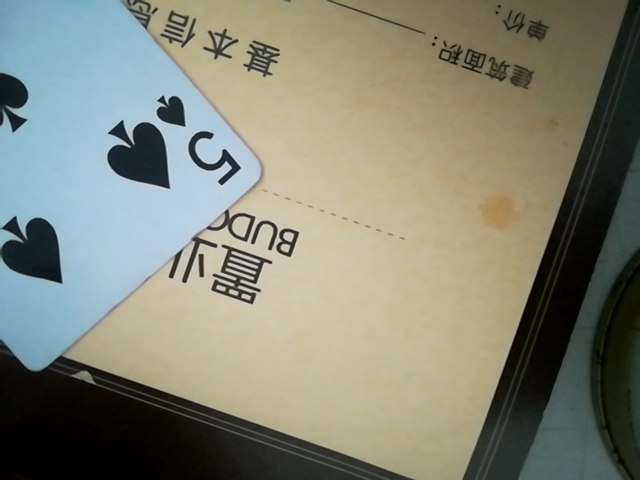ht 5: (1, 0, 262, 400)
